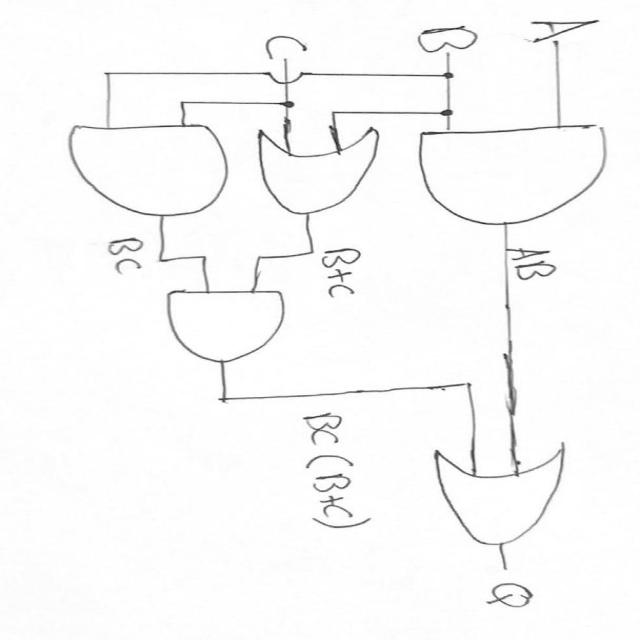AND: (411, 122, 613, 229), (57, 114, 238, 221), (156, 281, 297, 370)
OR: (414, 440, 582, 559), (253, 123, 390, 224)
